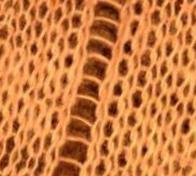slub: (48, 0, 128, 176)
